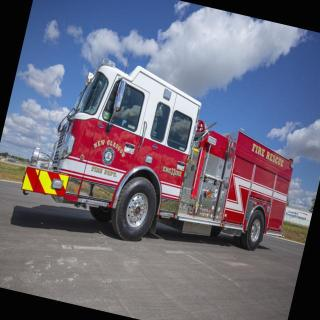Fire_truck: (14, 36, 316, 276)
